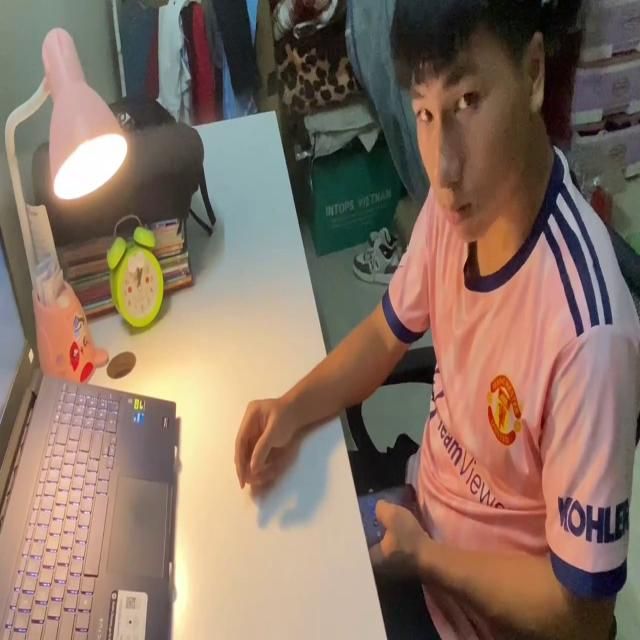laptop: (0, 217, 177, 640)
phone: (351, 478, 426, 553)
student: (234, 0, 640, 640)
